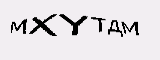Д: (107, 16, 124, 41)
М: (8, 16, 29, 37), (121, 17, 141, 37)
Т: (89, 10, 108, 37)
Х: (27, 12, 59, 38)
Ү: (56, 11, 91, 40)
